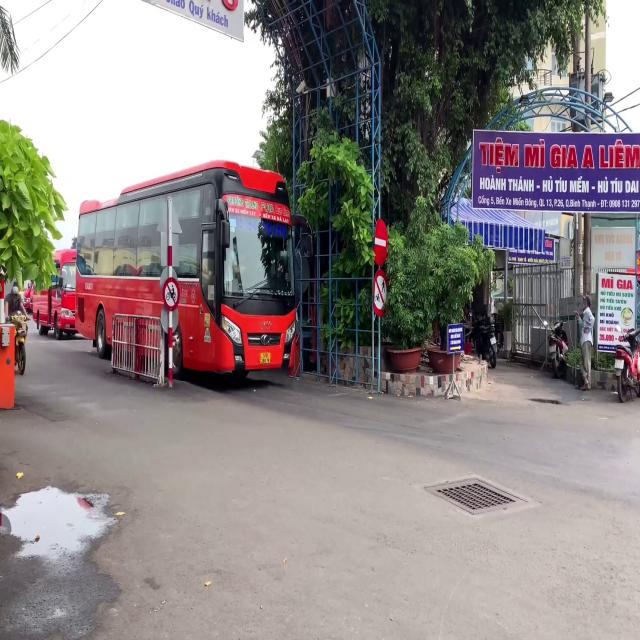bien_vang: (260, 352, 271, 363)
